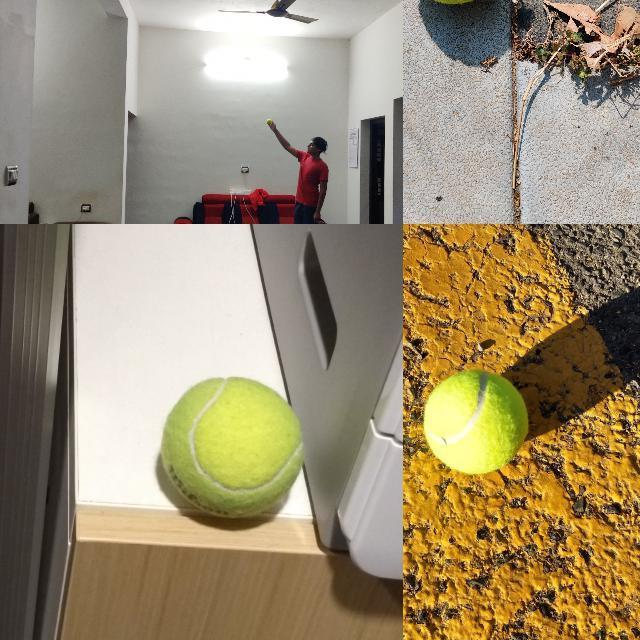tennis-ball: (160, 375, 305, 519), (420, 368, 532, 475), (266, 118, 272, 124)
